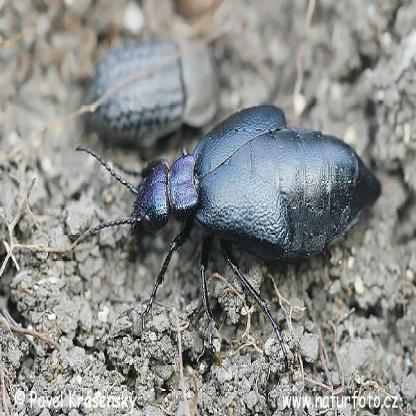beetle: (78, 100, 372, 278)
